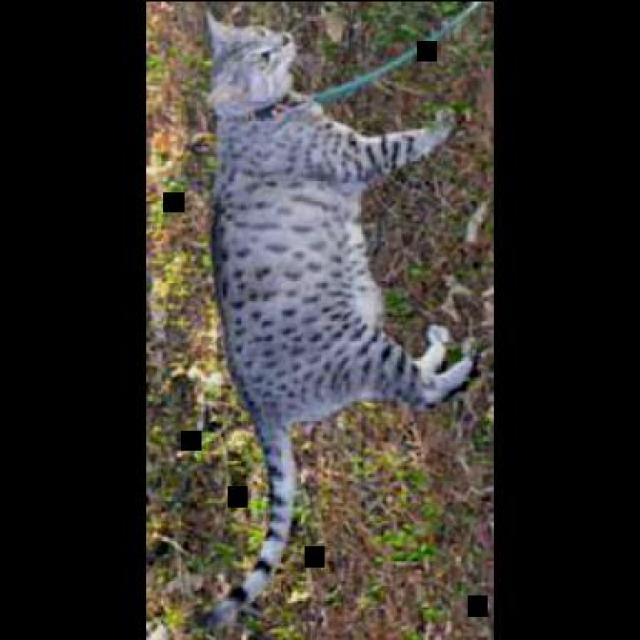unauthorized: (198, 4, 477, 636)
